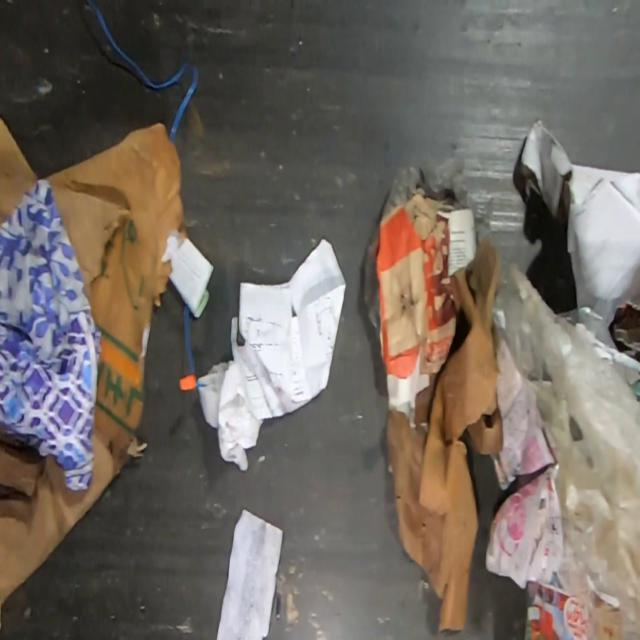cardboard: (0, 116, 190, 609), (385, 240, 503, 634), (371, 186, 457, 380)
soft_plastic: (493, 262, 640, 640), (361, 153, 494, 349)
